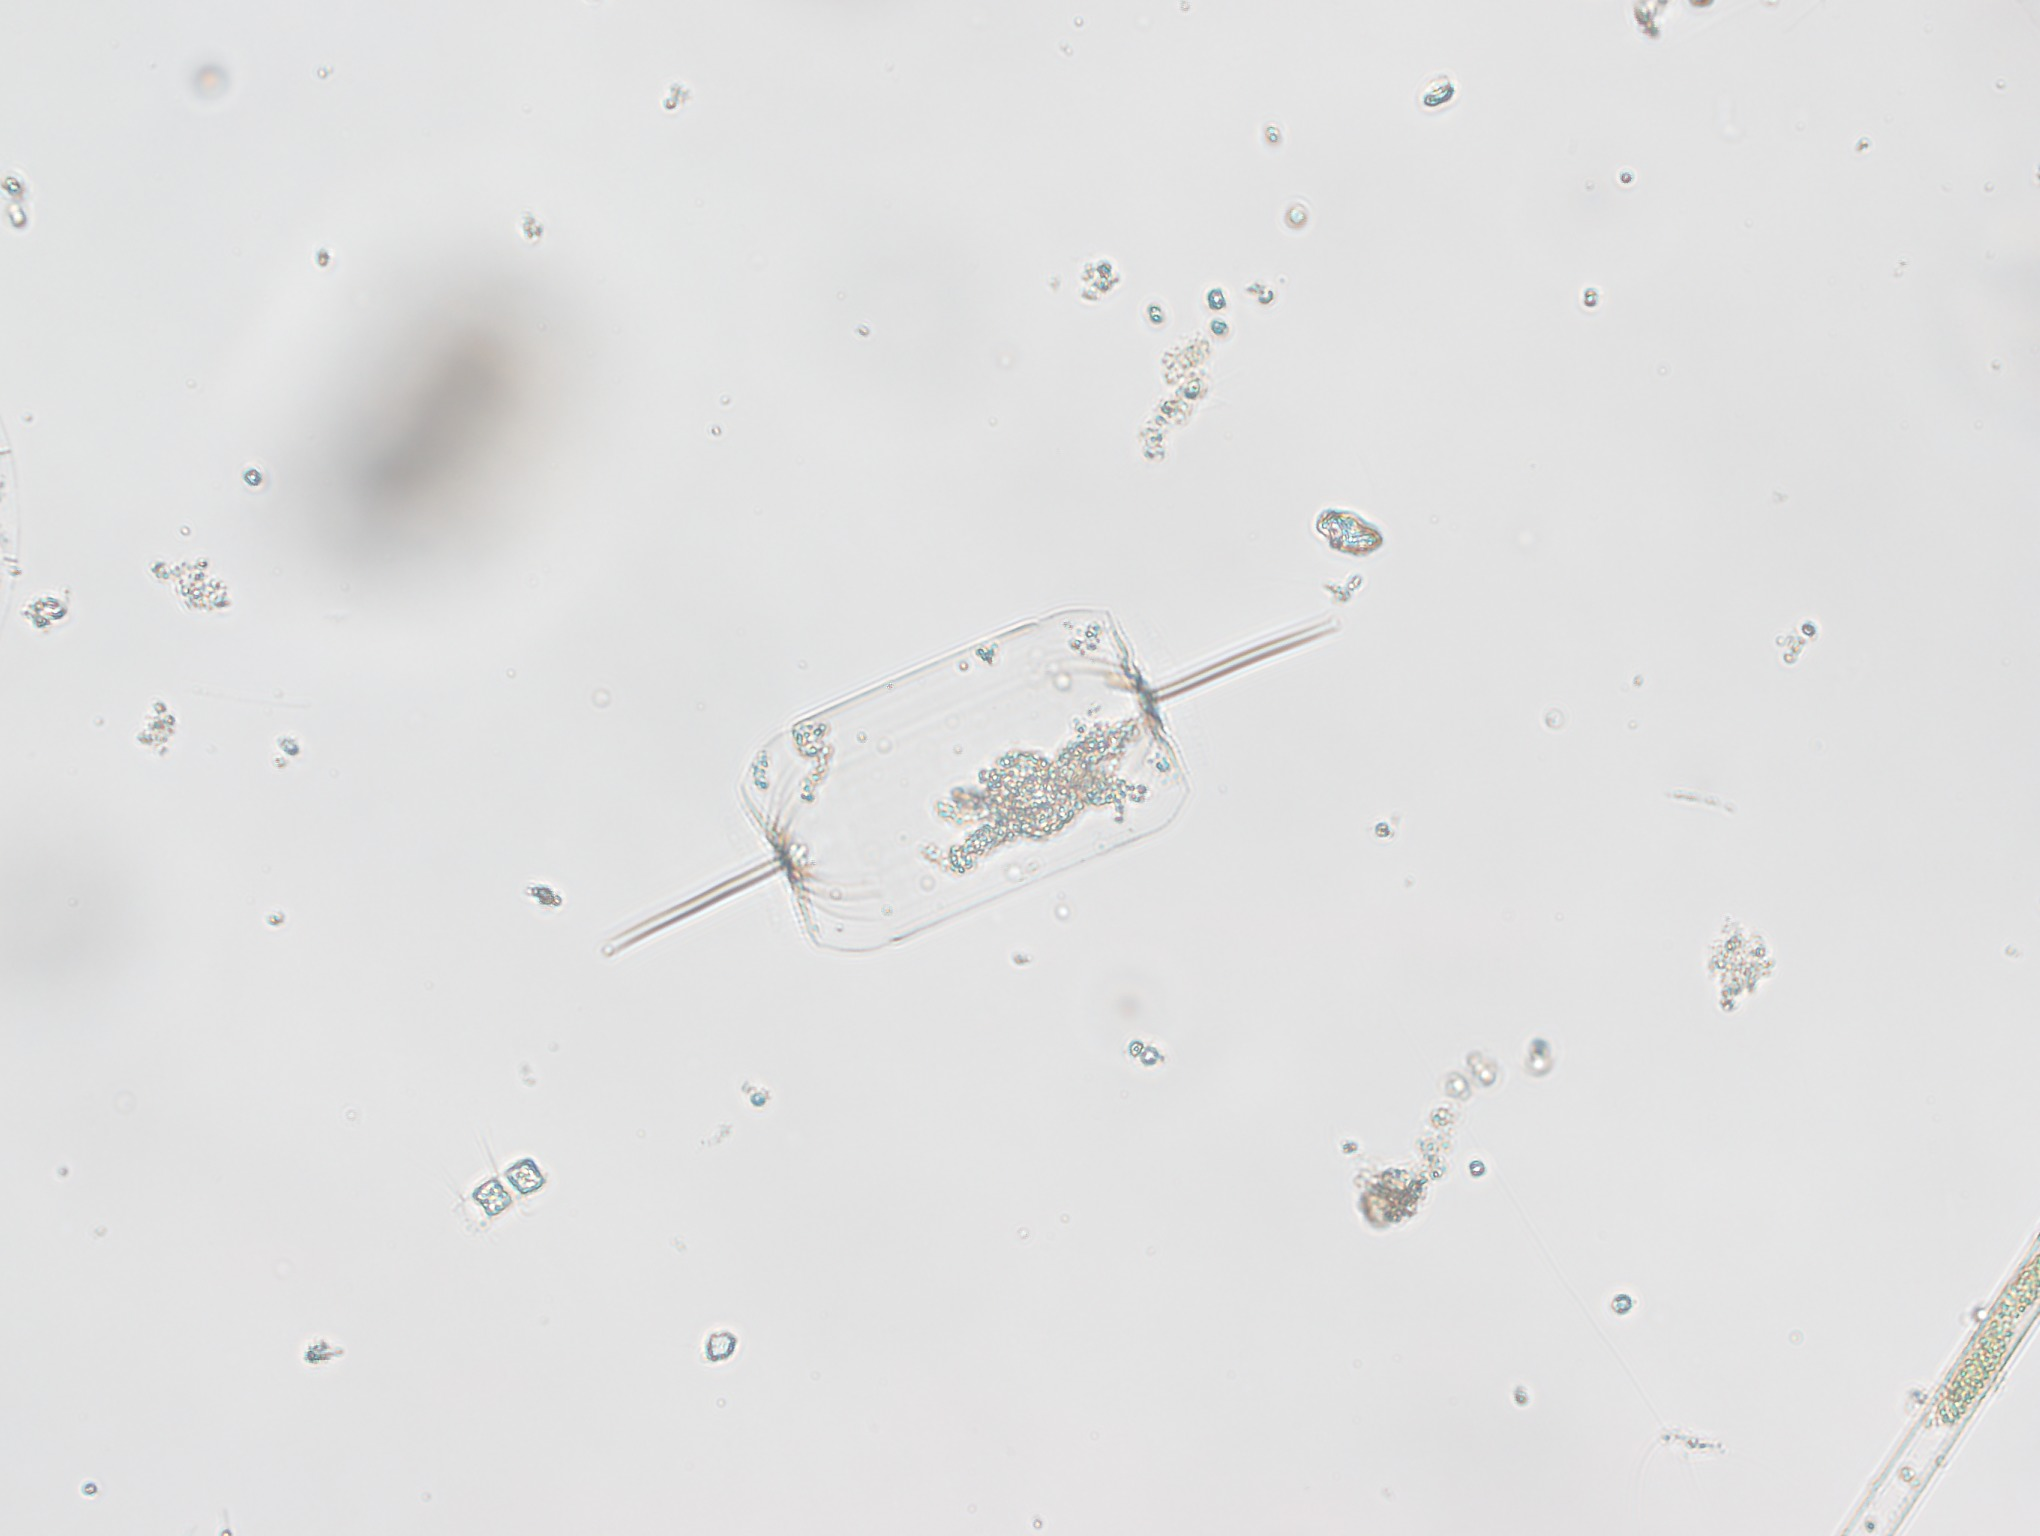ditylum: (555, 573, 1366, 984)
